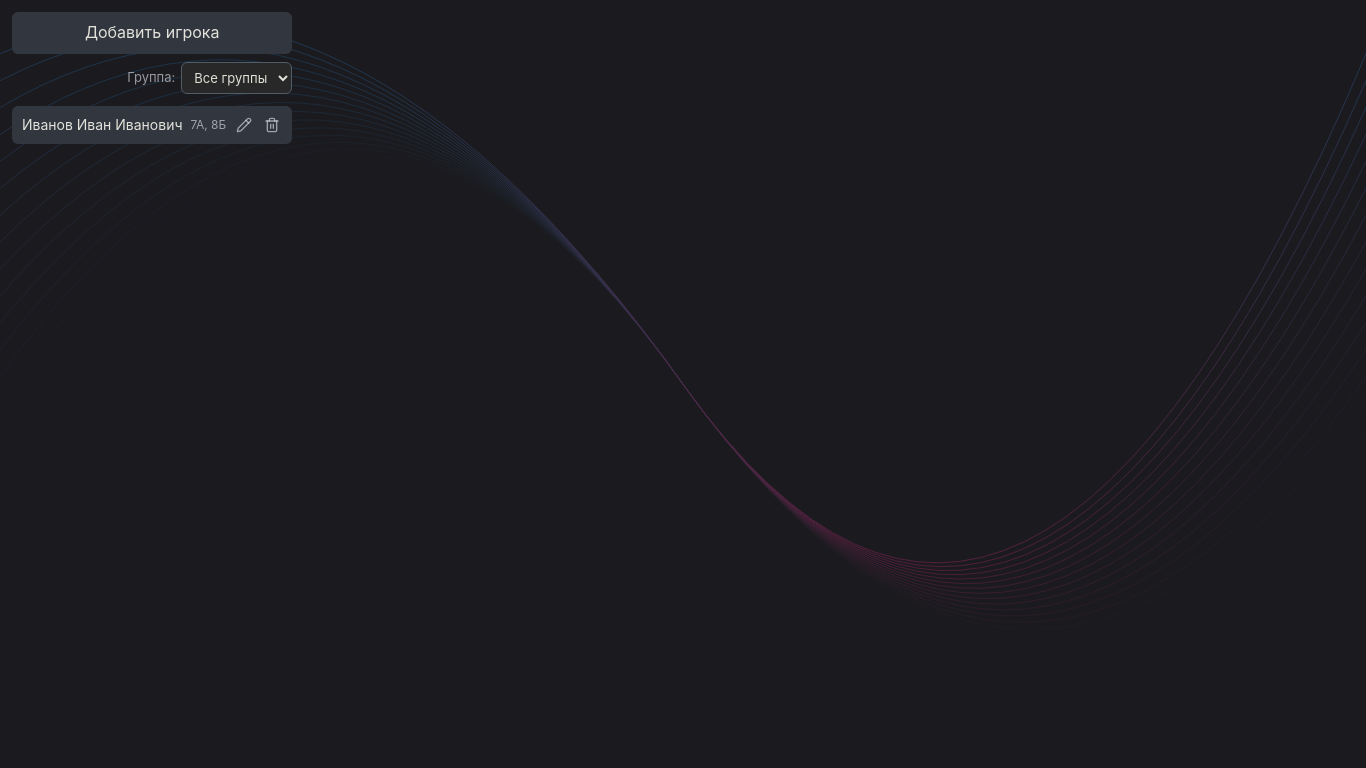
Test: PlayersPanel › shows an empty message when the filtered group has no players
Expected: the text "Иванов Иван Иванович" is shown, [22, 114, 182, 136]
Select "9В" in the dropdown labelled "Группа:": (237, 78) [181, 62, 292, 94]
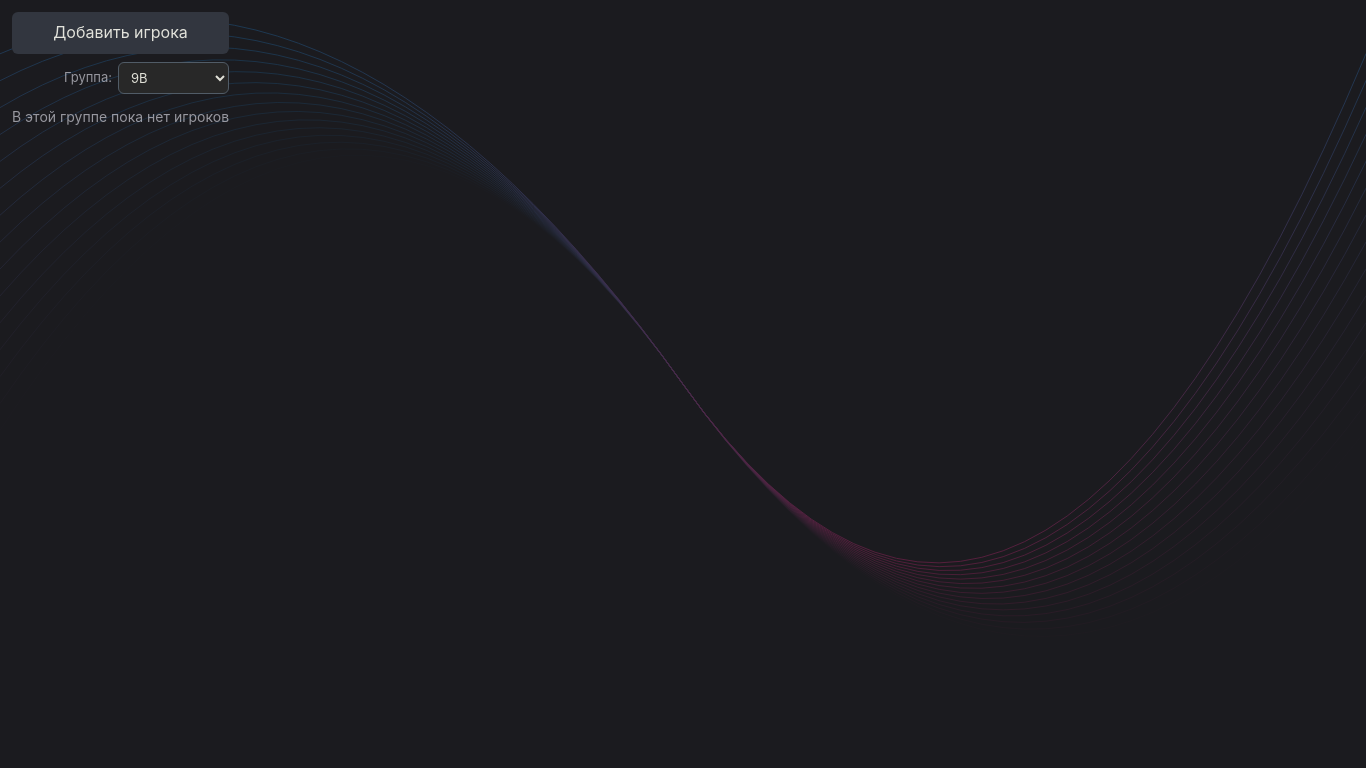
Expected: the text "В этой группе пока нет игроков" is shown, [12, 106, 229, 128]
